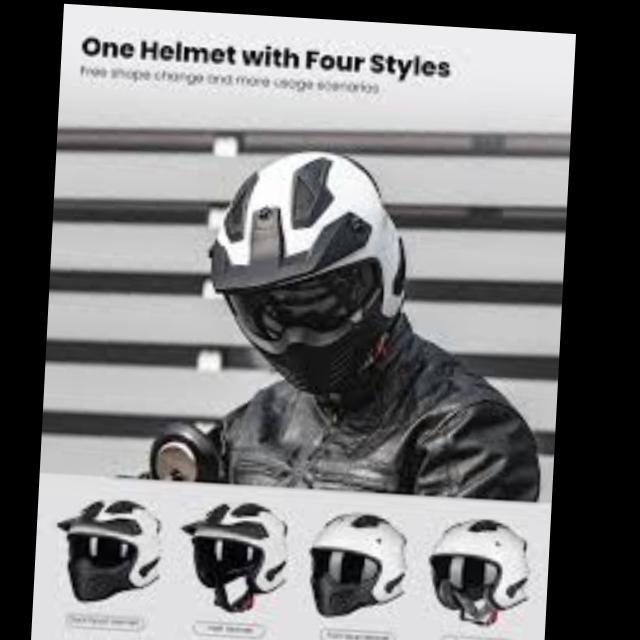motorcycle-helmets: (210, 153, 420, 405), (182, 504, 285, 610), (57, 498, 160, 601), (429, 519, 528, 625), (309, 512, 406, 615)
